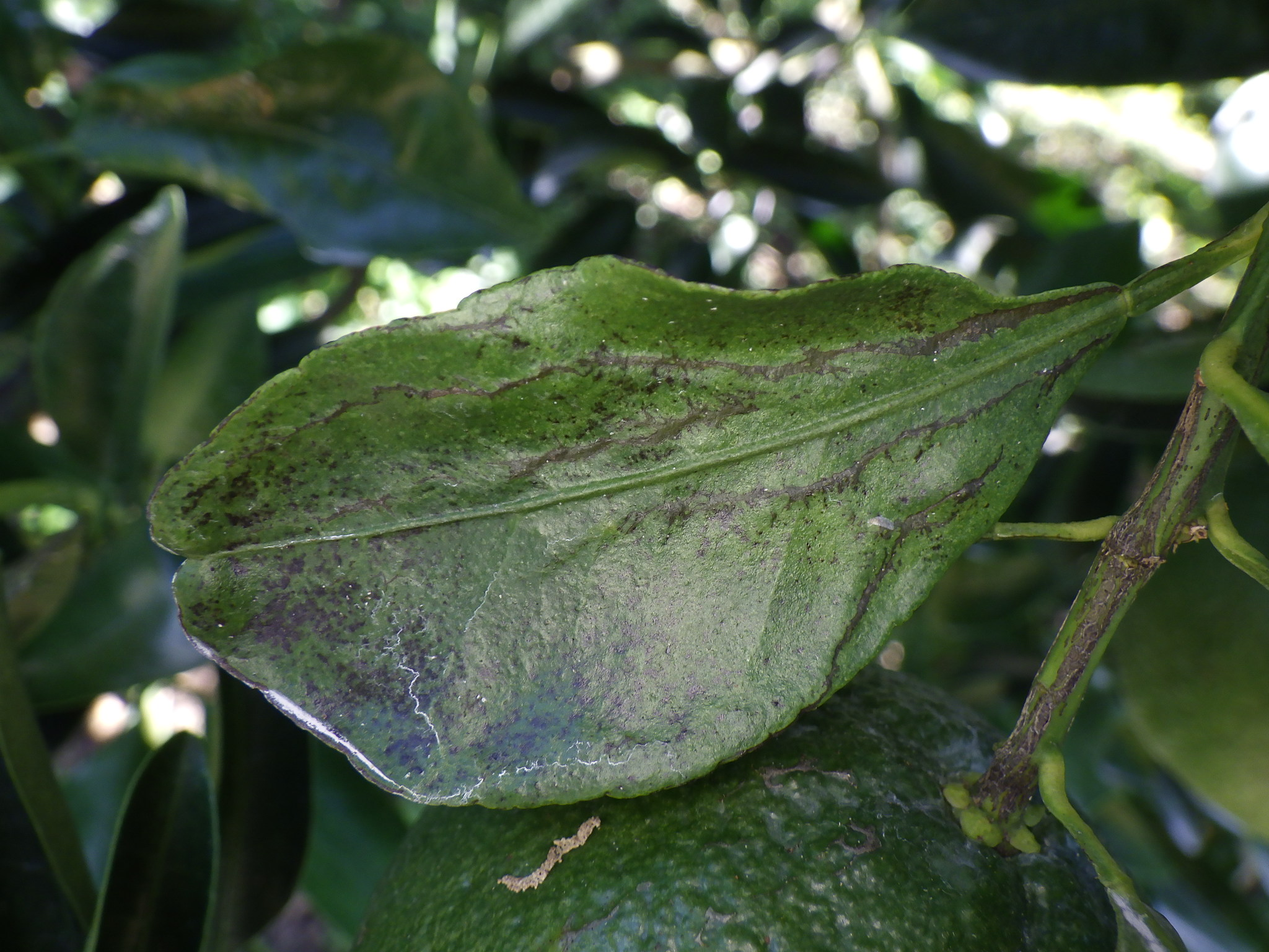Thrips_Damage: (160, 542, 657, 794), (591, 266, 1105, 501)
